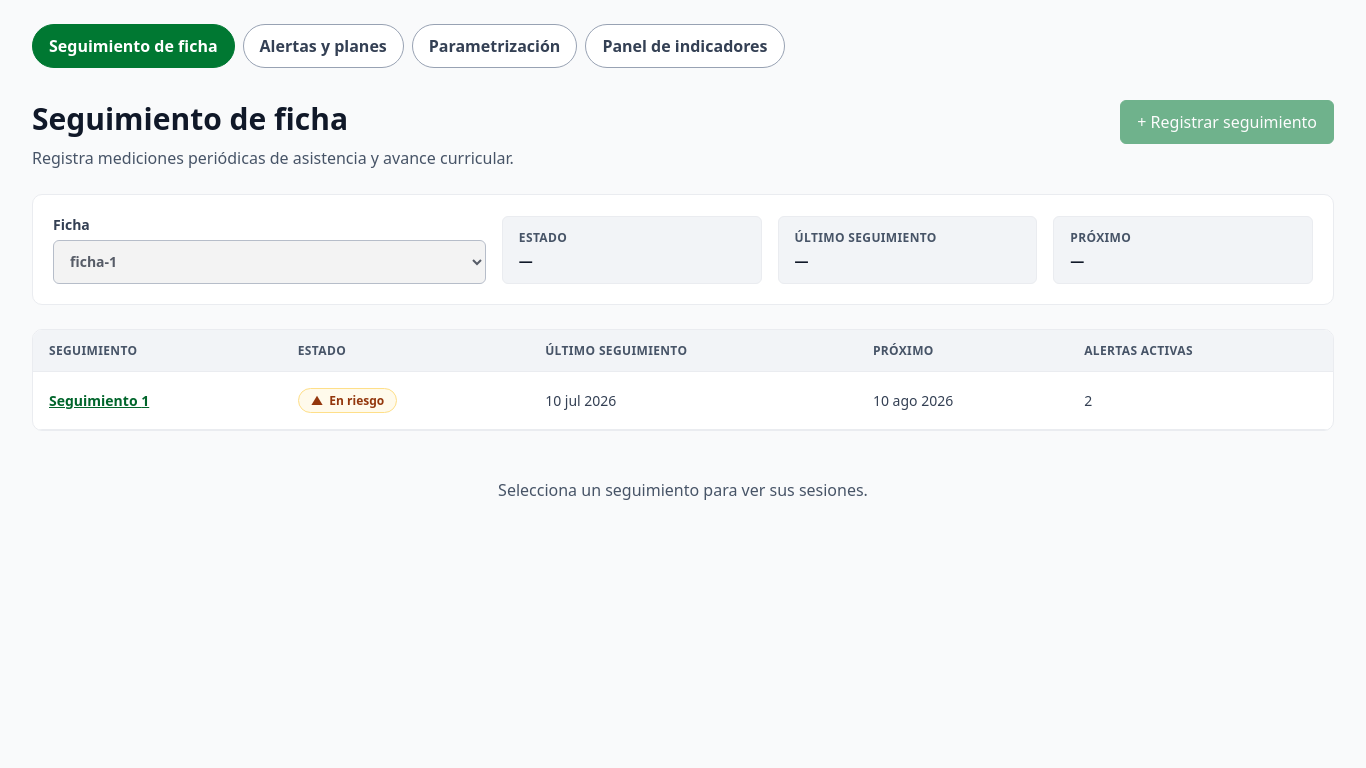
Test: HU-MON-007 seguimiento de ficha › E3/E4: click en la fila consulta GET /ficha-trackings/{id} y luego sus sesiones (mas reciente primero)
Click the button with aria-label "Abrir seguimiento 1" at [99, 400], box [49,390,149,410]
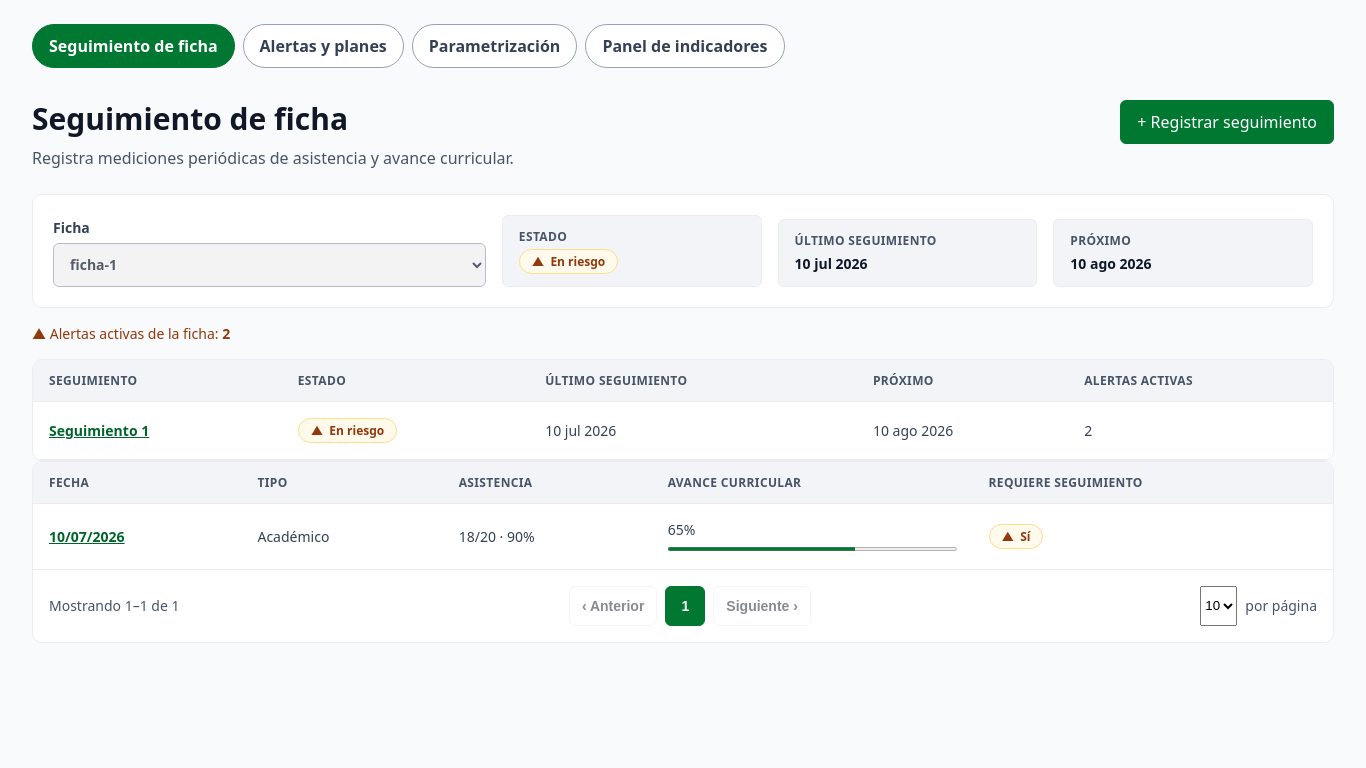
Now the text "Académico" is shown, box [242,504,443,569]
Now the text "18/20 · 90%" is shown, box [443,504,652,569]
Now the text "Mostrando 1–1 de 1" is shown, box [49,596,180,615]
